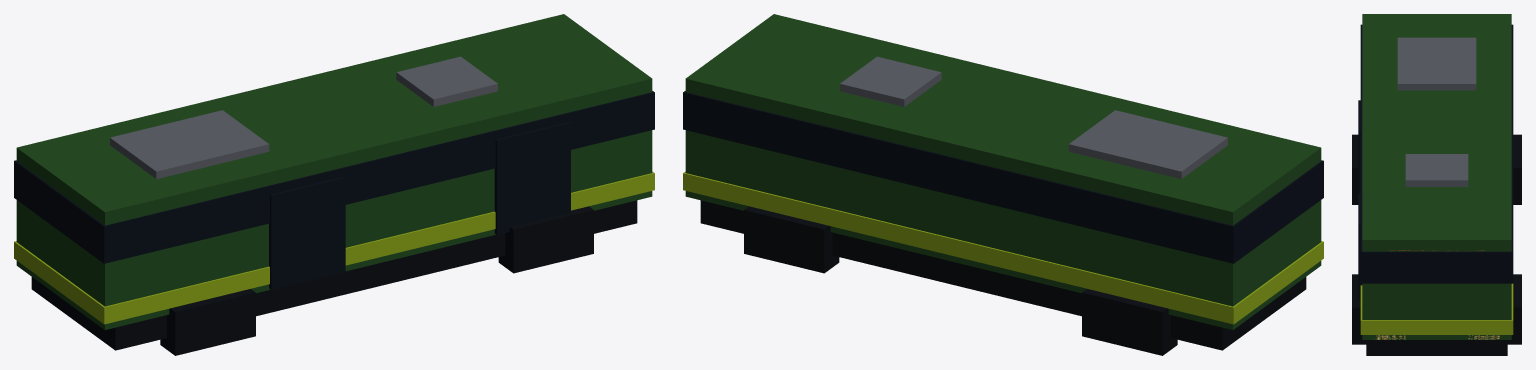
File: bus.obj
The picture shows the model from 3 angles, left to right: view 1: azimuth 30°, elevation 25°; view 2: azimuth 150°, elevation 25°; view 3: azimuth 270°, elevation 25°; orthographic projection. The views are drawn at different scales.
Parts seen in each view (by area): view 1: body, glazing, doors, roof-vents, skirt, livery, wheels; view 2: body, glazing, livery, roof-vents, skirt, wheels; view 3: body, glazing, roof-vents, livery, wheels, skirt, doors, headlights.
Part boxes in pixels (box(x1,y1,x2,y2)): body: box(16, 14, 652, 329); glazing: box(14, 91, 654, 263); doors: box(269, 121, 570, 289); roof-vents: box(110, 56, 497, 178); skirt: box(31, 200, 637, 350); livery: box(14, 171, 654, 324); wheels: box(160, 206, 593, 355); body: box(685, 14, 1321, 329); glazing: box(683, 91, 1323, 263); livery: box(683, 171, 1323, 324); roof-vents: box(840, 56, 1227, 178); skirt: box(700, 200, 1306, 350); wheels: box(744, 206, 1177, 355); body: box(1362, 14, 1511, 339); glazing: box(1360, 24, 1513, 283); roof-vents: box(1397, 37, 1476, 186); livery: box(1360, 283, 1513, 334); wheels: box(1352, 134, 1521, 344); skirt: box(1366, 340, 1507, 355); doors: box(1358, 100, 1362, 299); headlights: box(1376, 335, 1499, 339).
Size of the model in its own units: 3.42 by 0.965 by 1.08.
